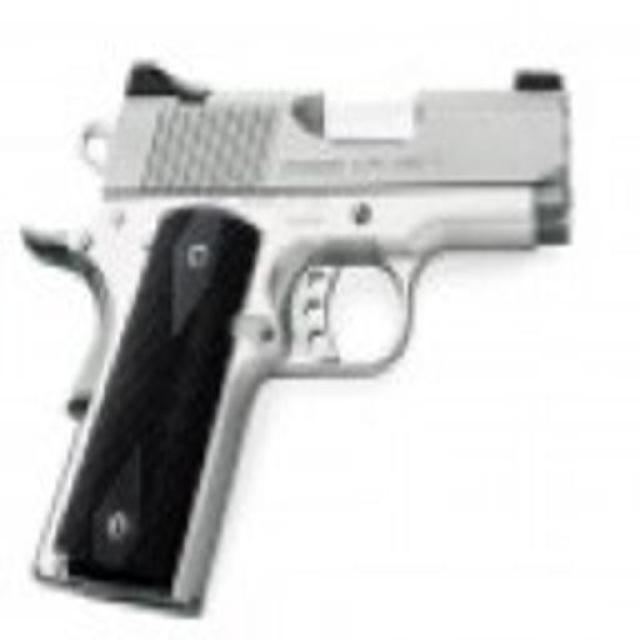pistol: (44, 48, 568, 613)
